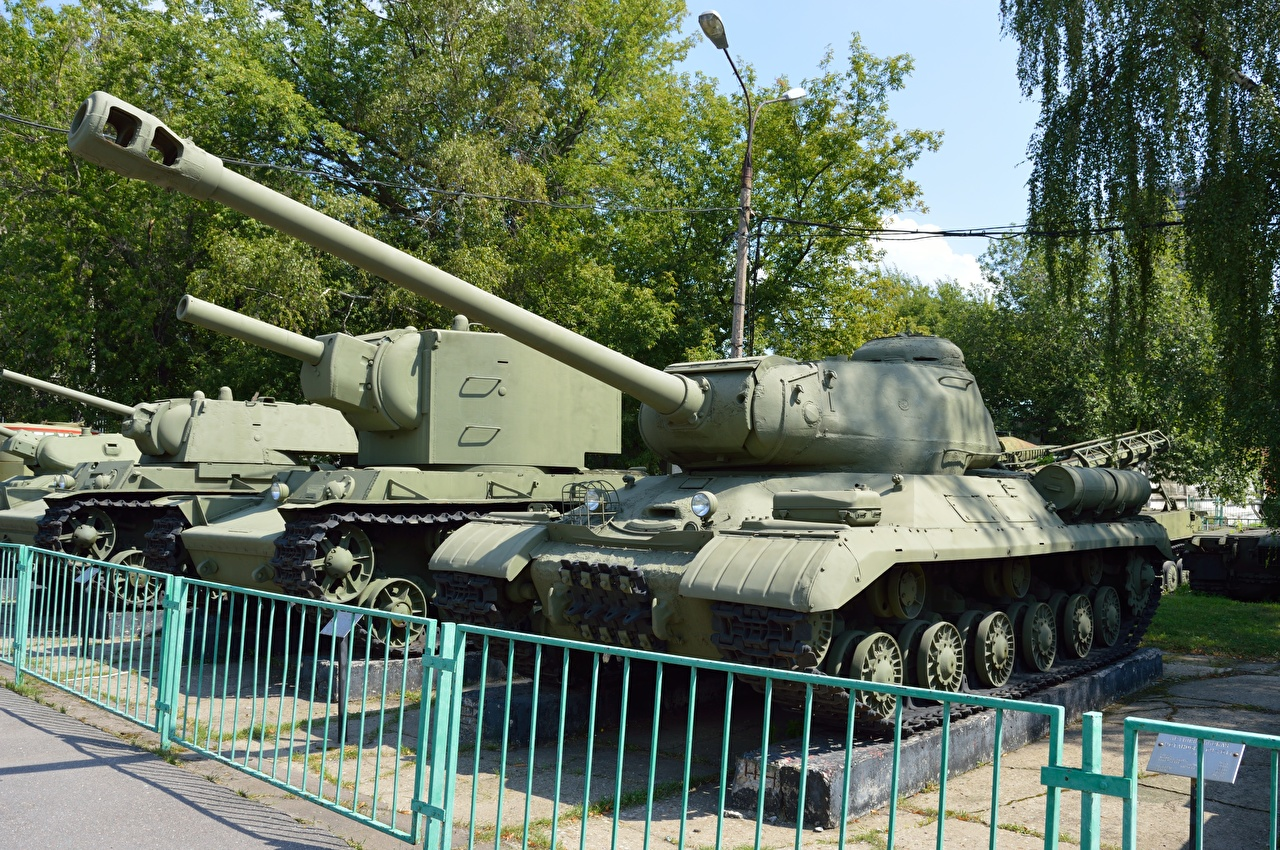tank: (68, 100, 1191, 736), (178, 290, 665, 643), (1, 364, 377, 615), (3, 414, 144, 535)
